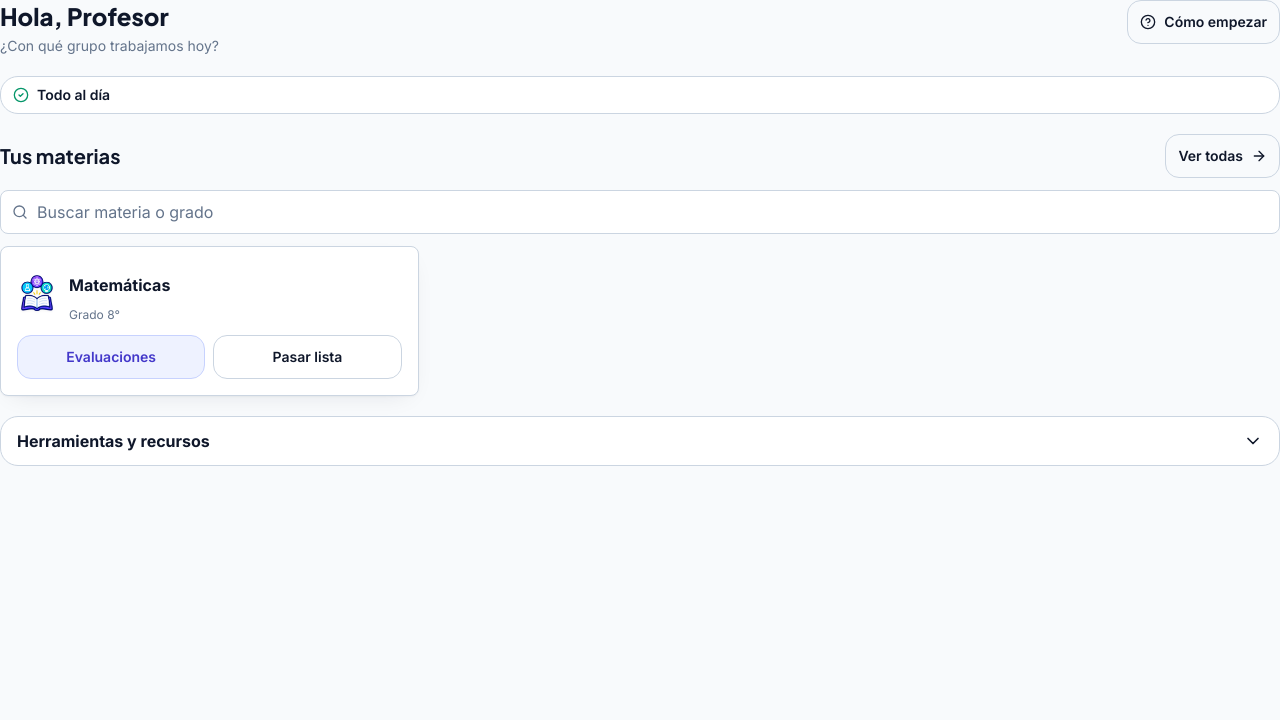
it: DashboardPage docente › can reopen and omit the existing guide
The width and height of the screenshot is (1280, 720).
Expected: the link "Matemáticas" is shown, [69,275,170,295]
Click the button "Cómo empezar": [1204, 22] box [1127,0,1279,44]
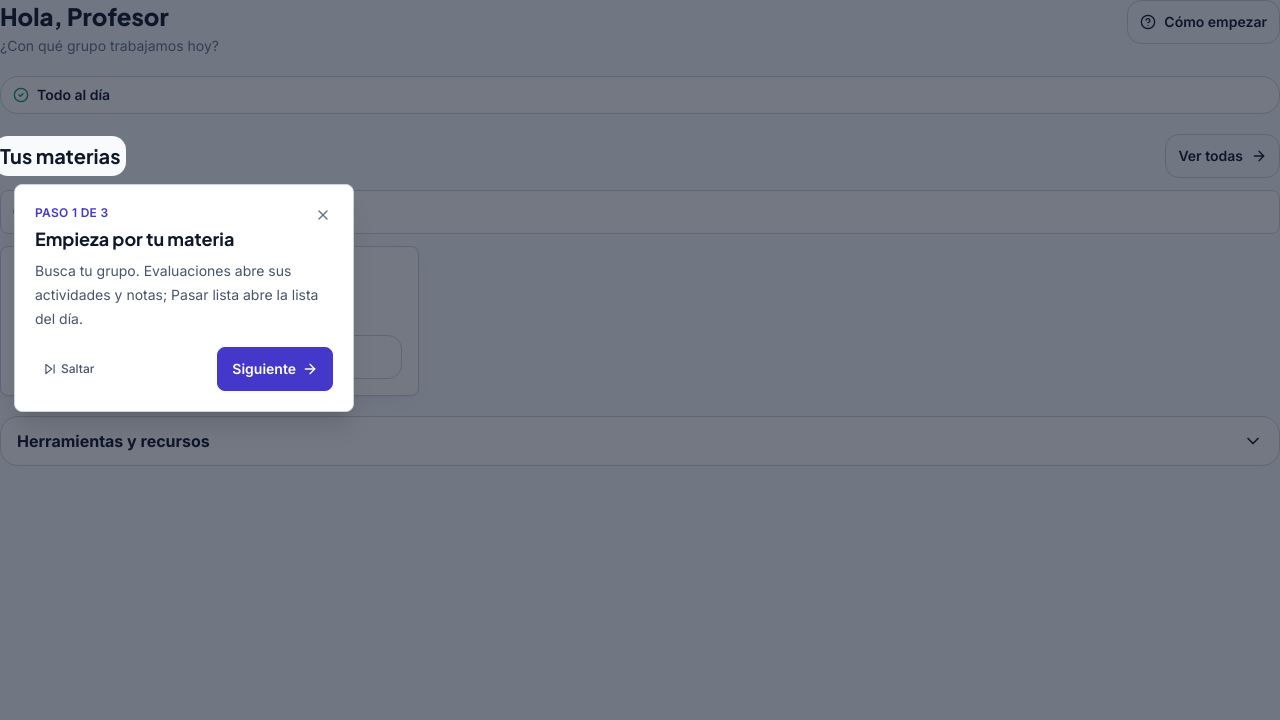
Result: the heading "Empieza por tu materia" is shown at [35,227,234,250]
Click the button "Saltar": [69, 369] box [35,347,102,391]
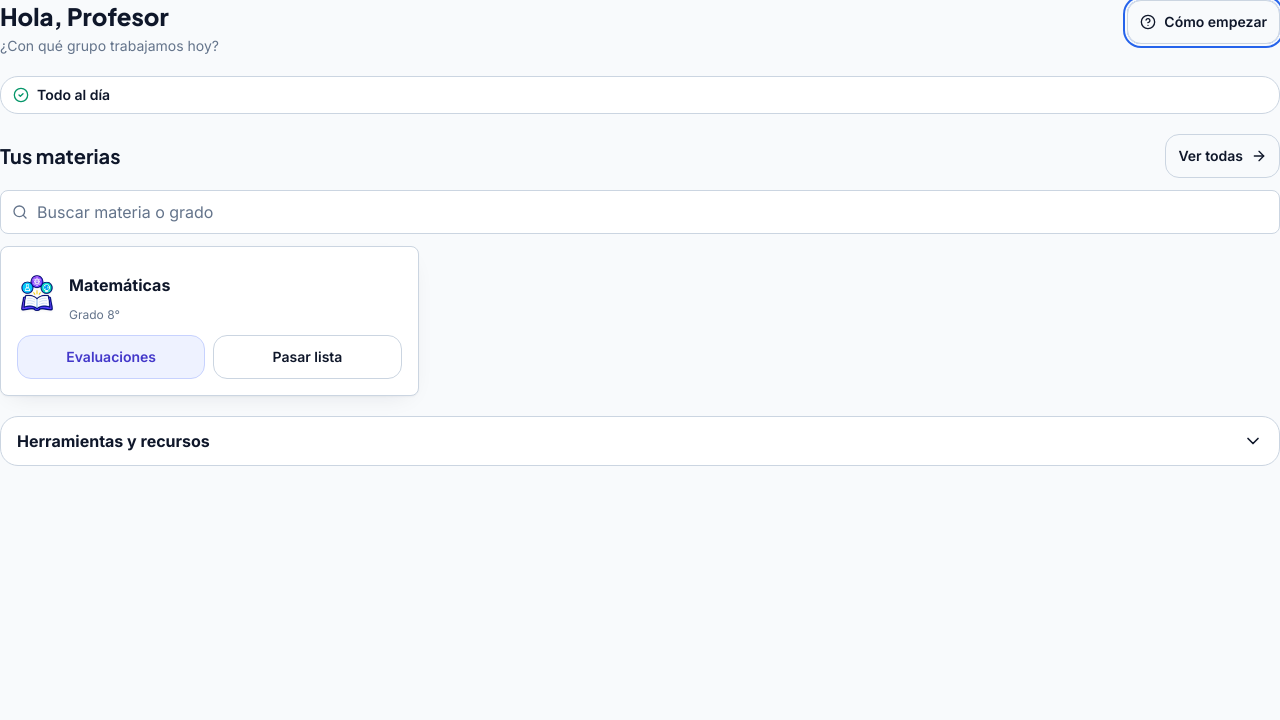
Result: the heading "Empieza por tu materia" is gone
